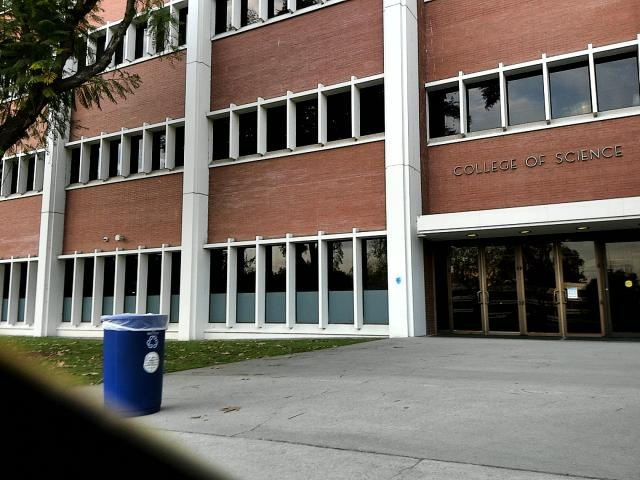trashcan_open: (101, 311, 174, 427)
